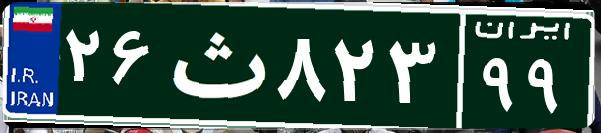2: (330, 28, 385, 110), (57, 26, 110, 107)
3: (385, 28, 445, 110)
6: (110, 28, 158, 105)
8: (273, 28, 330, 110)
9: (475, 38, 525, 113), (525, 38, 570, 115)
ث: (158, 15, 273, 115)
